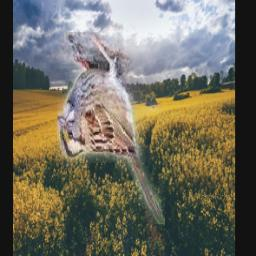Sparrow: (57, 33, 165, 225)
